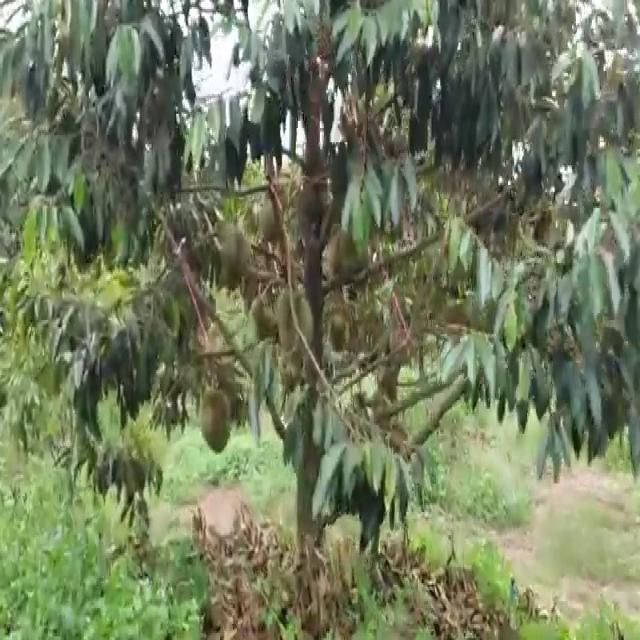durian: (274, 283, 317, 361), (196, 380, 238, 459)
